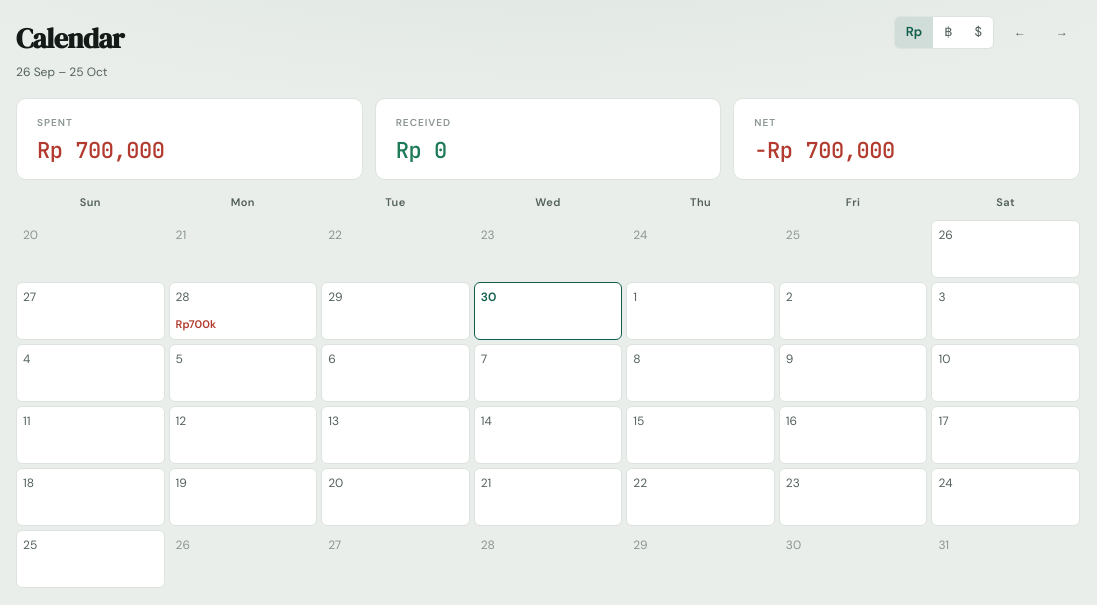
toggles between three currencies
Expected: the text "Rp700k" is shown, [176,317,216,331]
Step 1. Click the button "$" → (978, 32), box [964,17,993,48]
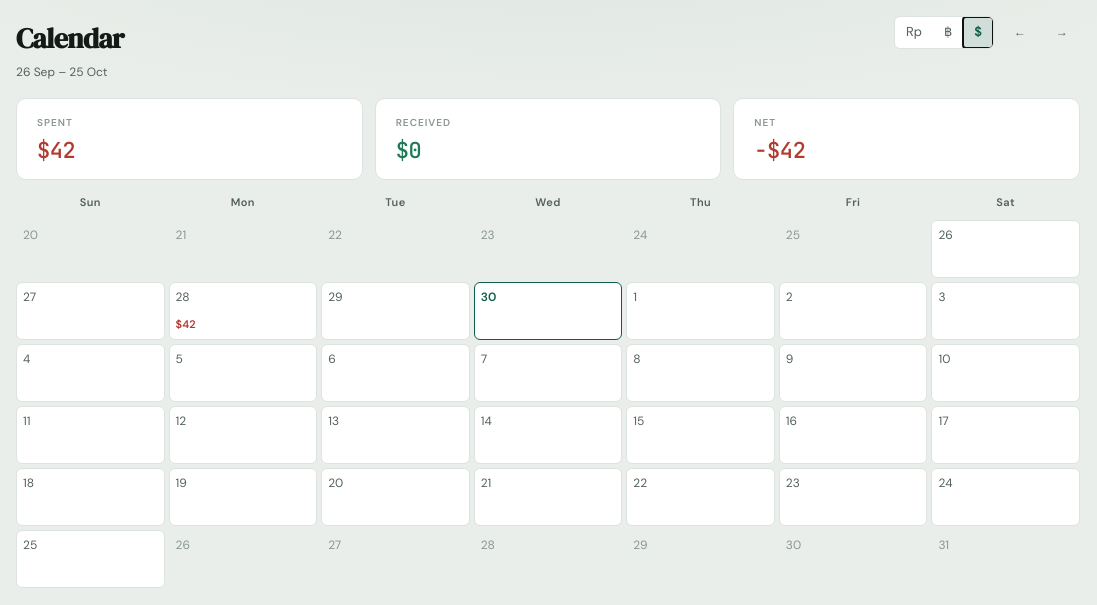
Expected: the text "$42" below "Spent" is shown, [37,136,75,165]
